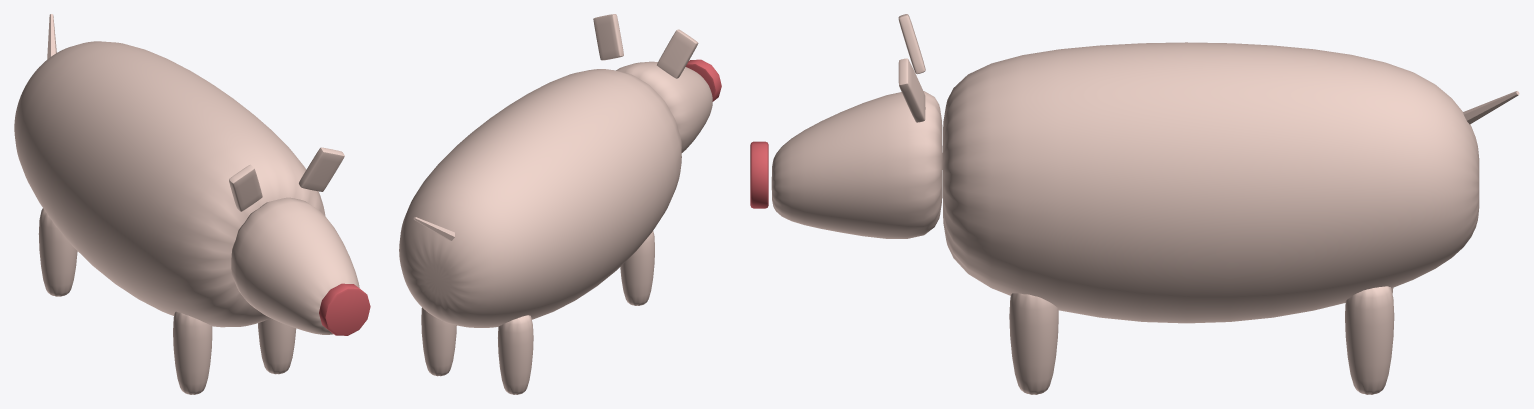
The model's file is pig.glb.
The picture shows the model from 3 angles, left to right: view 1: azimuth 30°, elevation 25°; view 2: azimuth 150°, elevation 25°; view 3: azimuth 270°, elevation 25°; orthographic projection. The views are drawn at different scales.
Visible parts, largest first — view 1: pig; view 2: pig; view 3: pig.
Part boxes in pixels (<box>): pig: <box>14,14,370,394</box>; pig: <box>399,14,721,394</box>; pig: <box>750,14,1519,394</box>.
Size of what is drawn, in the model's own units: 0.4287 by 0.5946 by 1.26.
